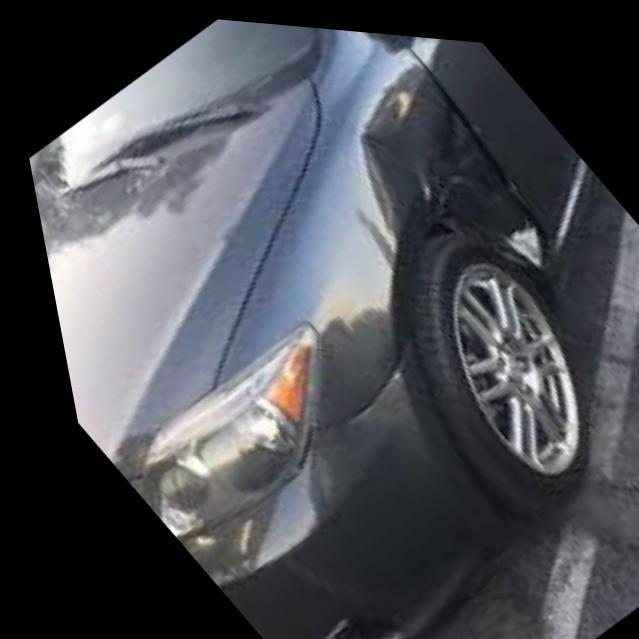dent: (357, 68, 548, 259)
